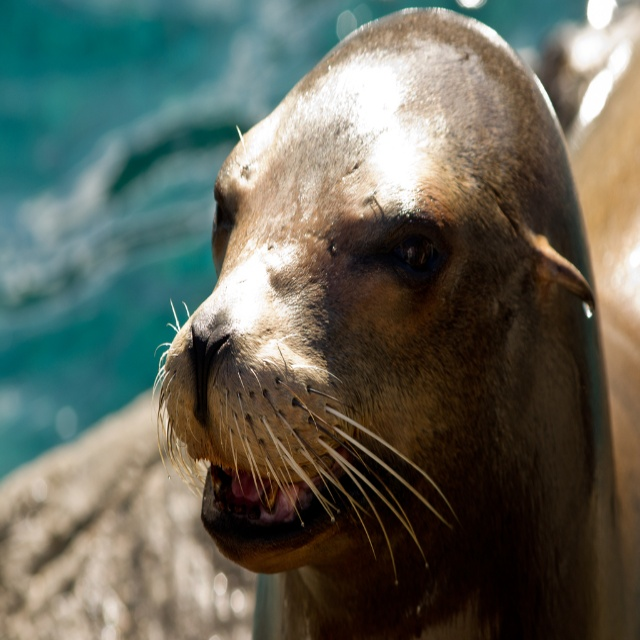Sea lion: (150, 5, 640, 639)
